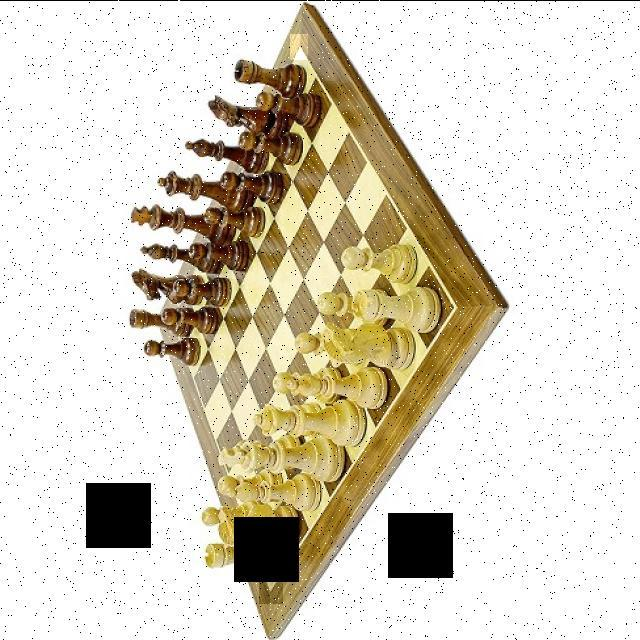chess-table-corners: (442, 288, 468, 327), (259, 574, 283, 603), (290, 33, 308, 59)
